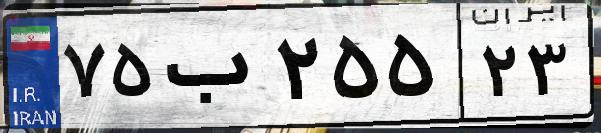2: (270, 28, 330, 110), (475, 38, 525, 113)
3: (525, 38, 570, 115)
5: (385, 28, 445, 110), (330, 28, 385, 110), (110, 28, 158, 98)
7: (57, 26, 110, 100)
ب: (158, 20, 270, 120)
